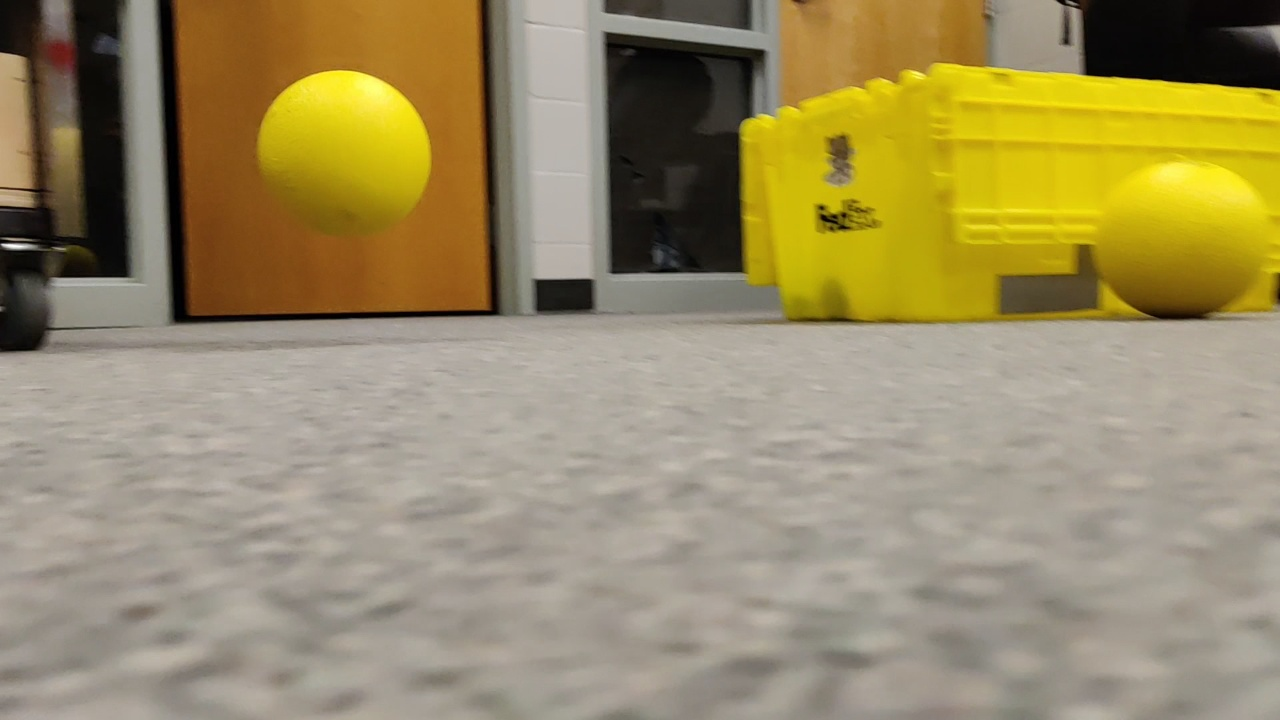Ball: (246, 63, 451, 250), (1092, 157, 1266, 315)
